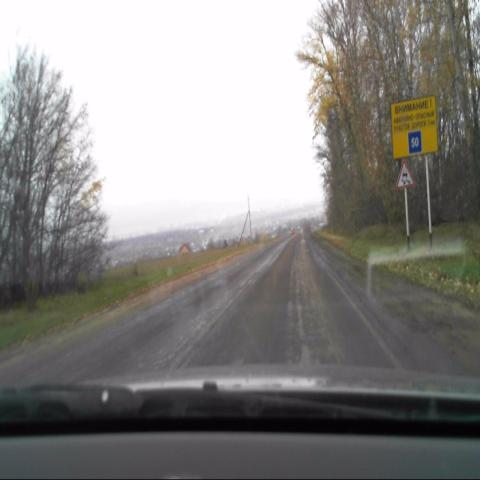1_15: (396, 160, 413, 188)
6_2: (408, 131, 422, 153)
